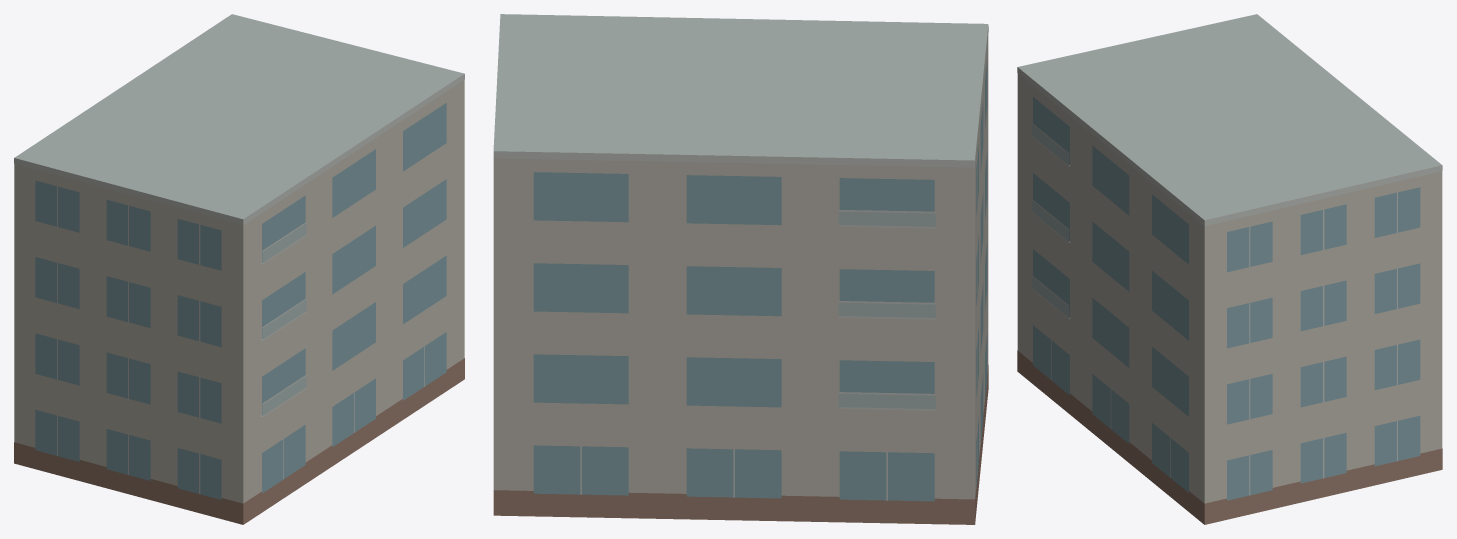
Rendered from survey-upis-33006949.glb.
3 renders of one model, left to right at view 1: azimuth 30°, elevation 25°; view 2: azimuth 150°, elevation 25°; view 3: azimuth 270°, elevation 25°, orthographic. The views are drawn at different scales.
Visible parts, largest first — view 1: survey-upis-33006949.tmp; view 2: survey-upis-33006949.tmp; view 3: survey-upis-33006949.tmp.
Part boxes in pixels (bbox=[...]): survey-upis-33006949.tmp: bbox=[14, 14, 464, 524]; survey-upis-33006949.tmp: bbox=[493, 14, 988, 524]; survey-upis-33006949.tmp: bbox=[1017, 14, 1442, 524].
Size of the model in its own units: 18.32 by 12.6 by 15.94.
